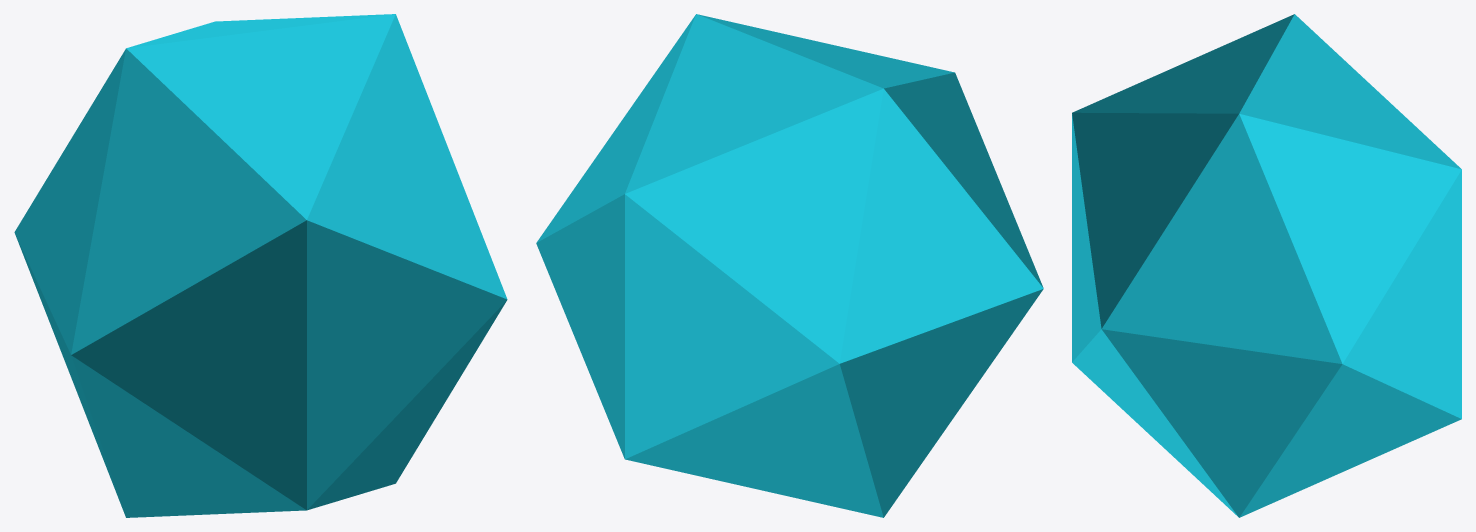
3 views of the same model, side by side, from view 1: azimuth 30°, elevation 25°; view 2: azimuth 150°, elevation 25°; view 3: azimuth 270°, elevation 25° (orthographic). The views are drawn at different scales.
Visible parts, largest first — view 1: body; view 2: body; view 3: body.
Boxes of the visible parts, x1,y1,x2,y2 form: body: (14,14,507,517); body: (536,14,1043,517); body: (1072,14,1461,517).
Size of the model in its own units: 0.7813 by 0.75 by 0.6557.
